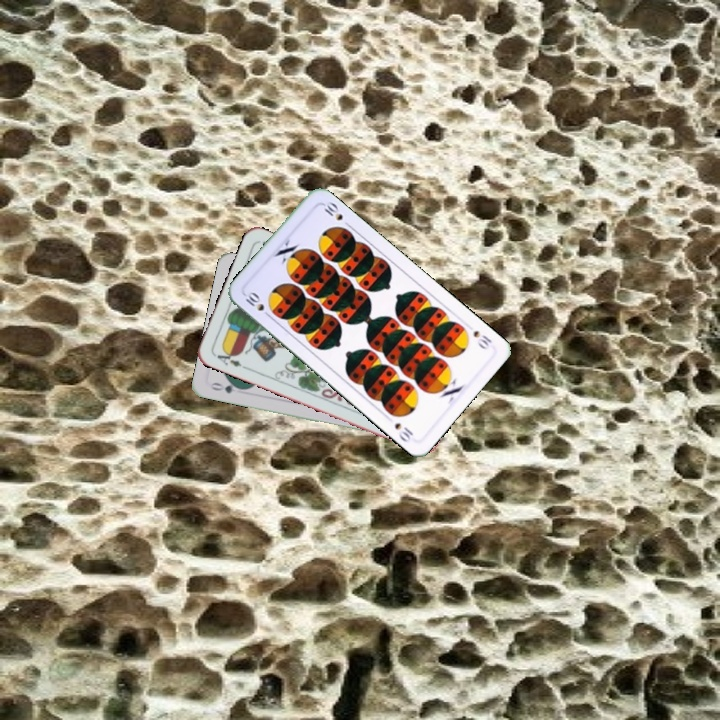EA: (213, 346, 250, 372)
GO: (206, 378, 247, 396)
S10: (240, 287, 274, 321), (469, 326, 495, 352)
